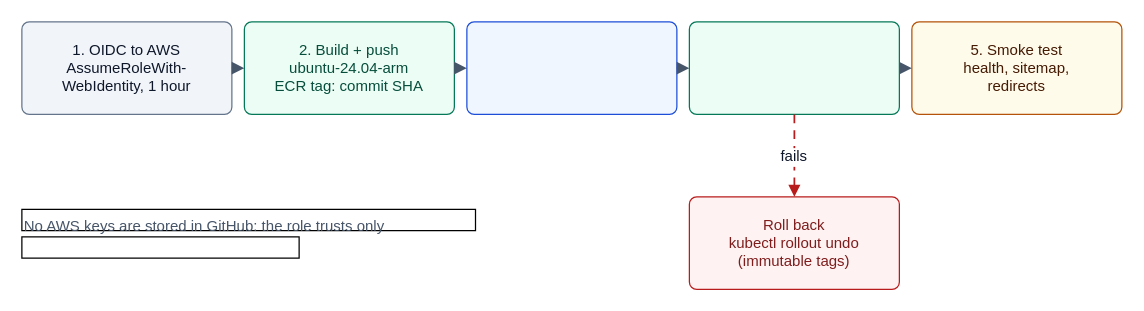
The diagram is 1144 pixels wide and 311 high, and some of its shapes have lost their labels. The centre of each missing label's shape, as x and y in pixels:
"3. kubeconfig EKS access entry namespace moks-cms" belongs at point (571, 67).
"4. Set image rollout status --timeout 5m" belongs at point (793, 67).
"this repository's default branch." belongs at point (160, 247).
